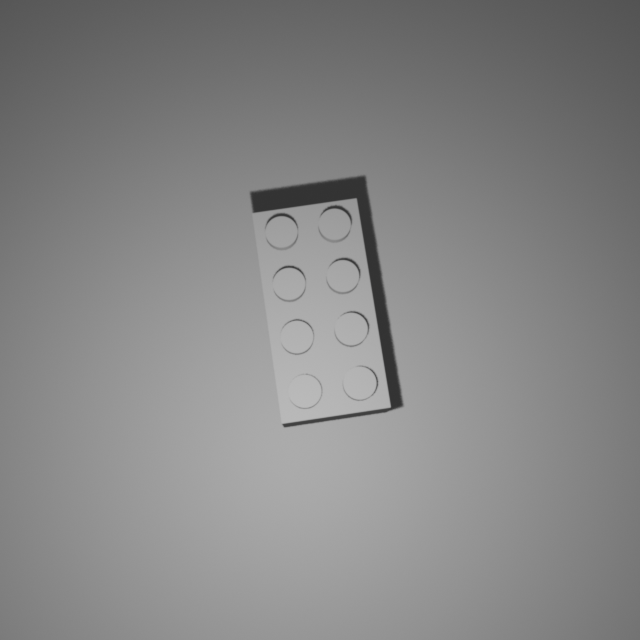lego_2x4: (251, 195, 392, 428)
